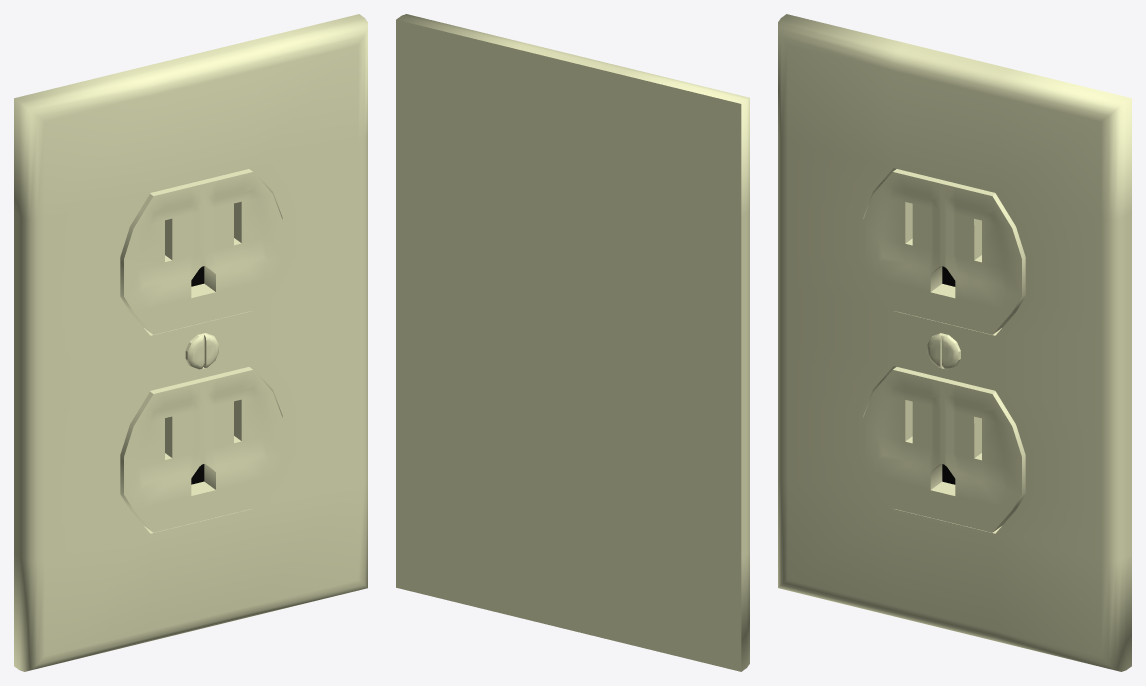
The model's file is PowerOutlet.FBX.
3 views of the same model, side by side, from view 1: azimuth 30°, elevation 25°; view 2: azimuth 150°, elevation 25°; view 3: azimuth 330°, elevation 25° (orthographic).
Visible parts, largest first — view 1: Power_Outlet; view 2: Power_Outlet; view 3: Power_Outlet.
Part boxes in pixels (x1,y1,x2,y2): Power_Outlet: (14, 14, 367, 671); Power_Outlet: (396, 14, 749, 671); Power_Outlet: (778, 14, 1131, 671).
Bounding box in the file's own units: 6.49 × 10.2 × 0.5802.
